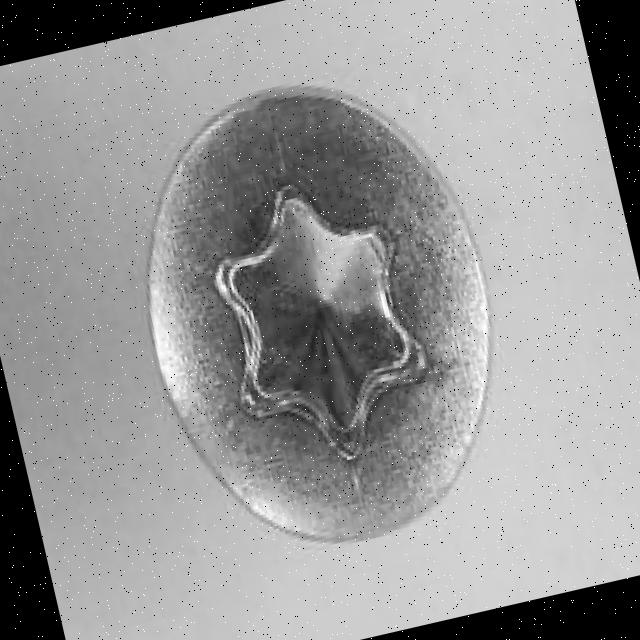Torx: (102, 53, 534, 576)
